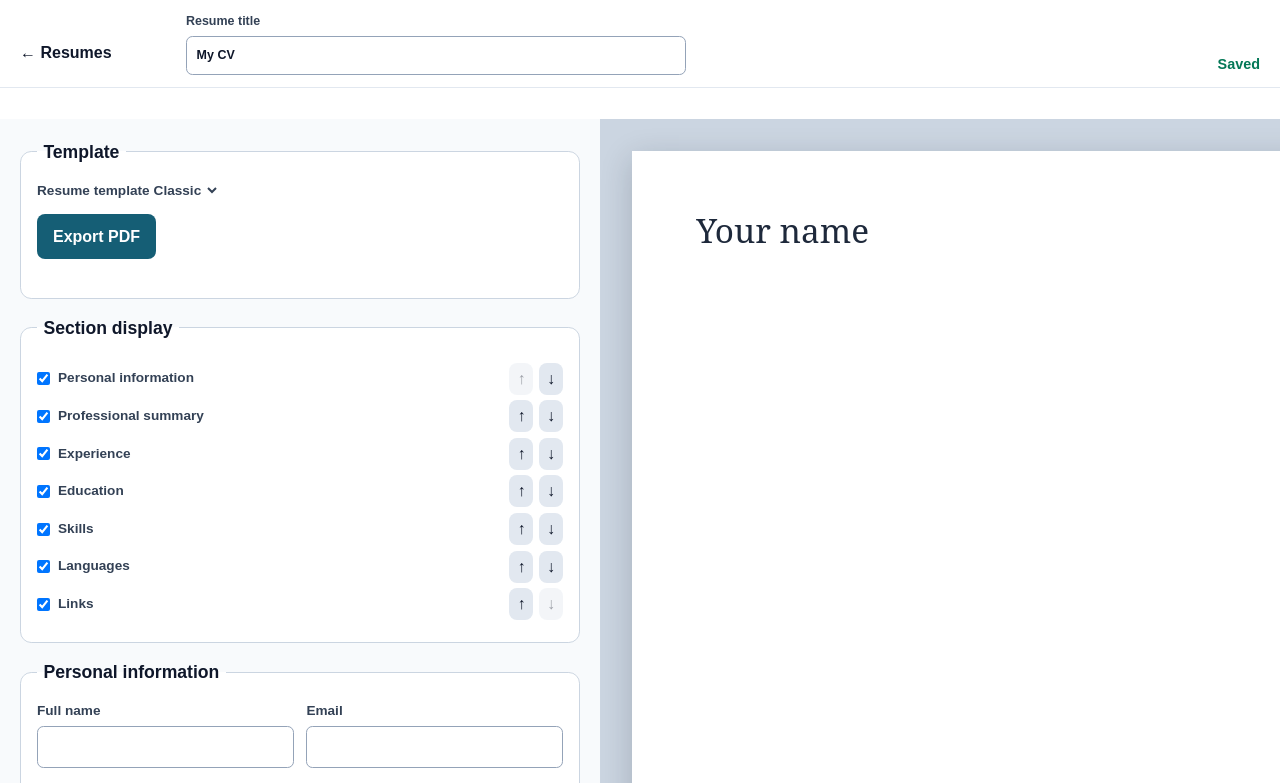
resume editor and autosave › blocks export when the exact latest snapshot fails to save
The image size is (1280, 783).
Replace the text in the field labelled "Resume title" with "Unsaved export": point(436, 55) [186, 36, 686, 75]
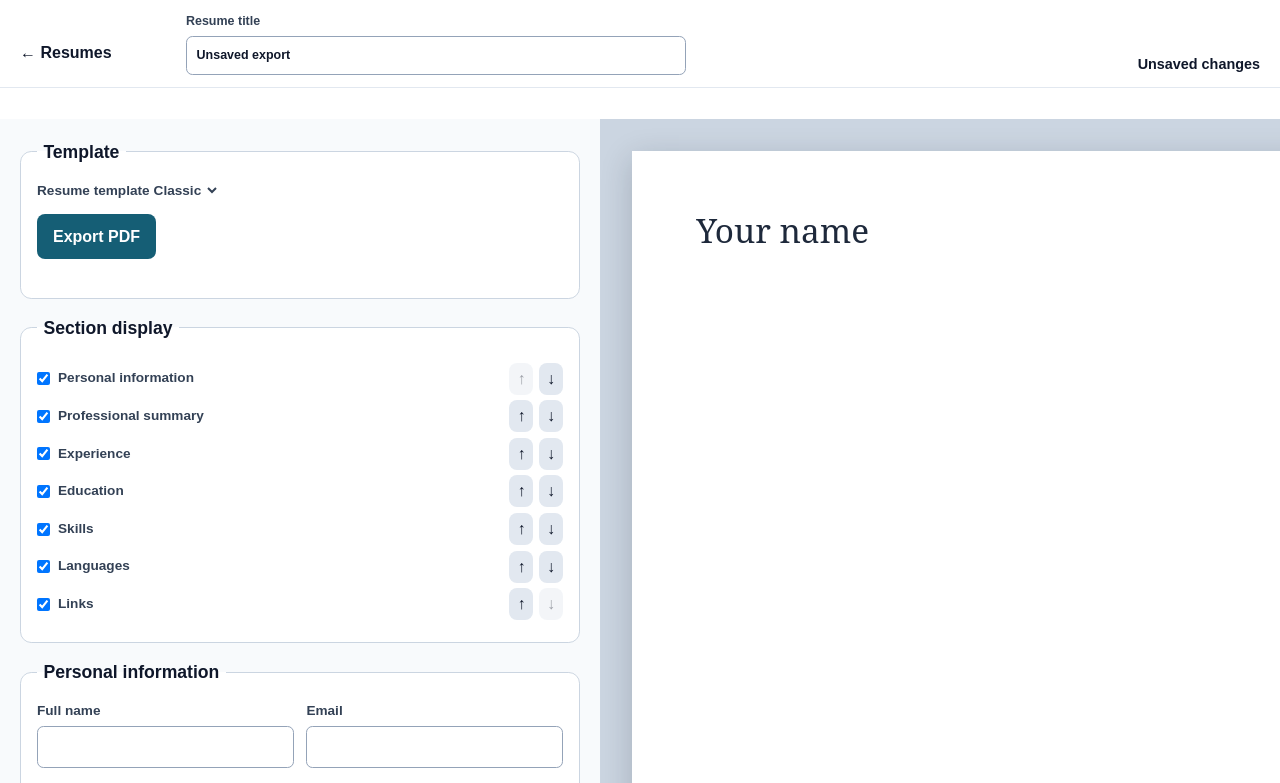
Click the button "Export PDF": point(97, 237) [37, 214, 156, 259]
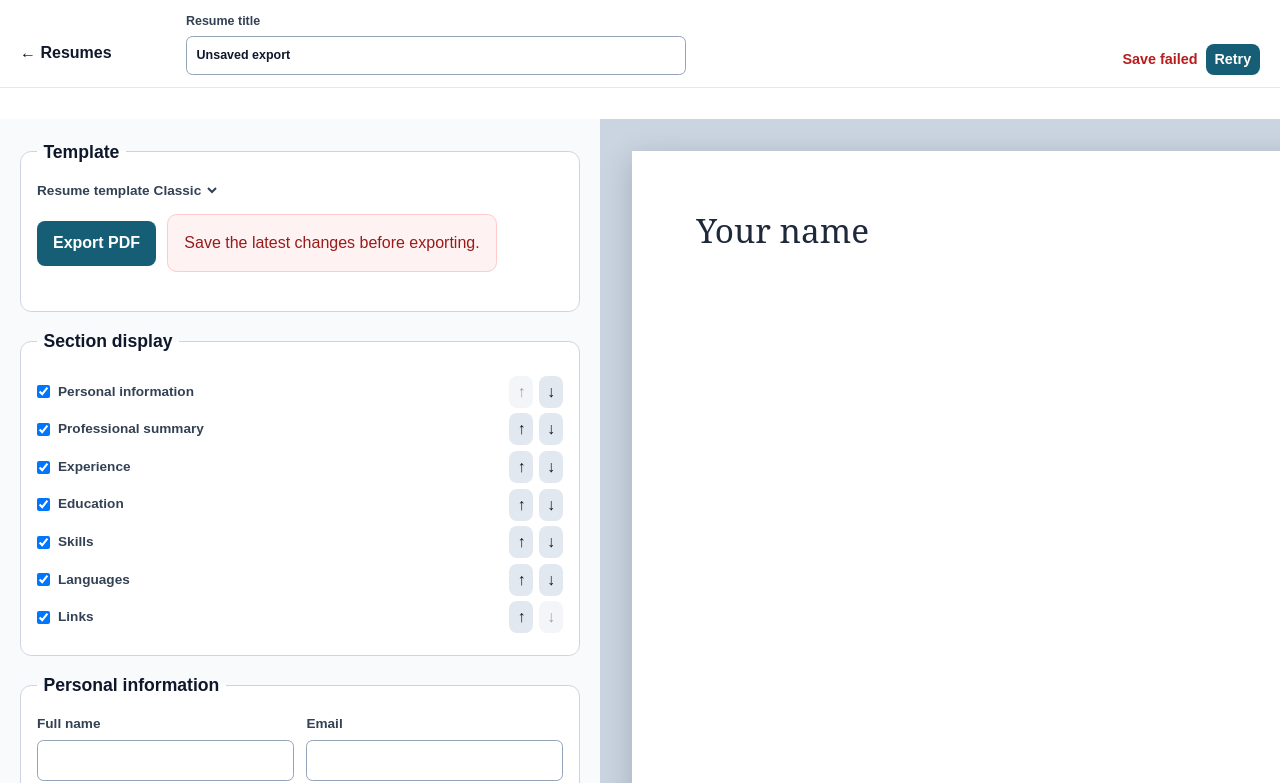
Result: the message "Save the latest changes before exporting." is shown at [167, 214, 497, 272]
